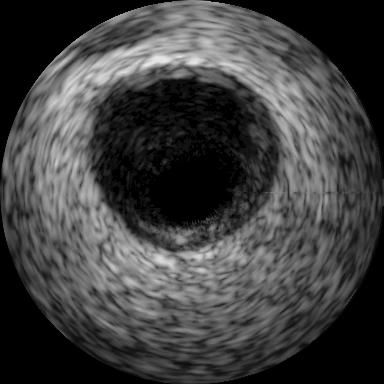Lumen: (157, 149, 232, 226)
